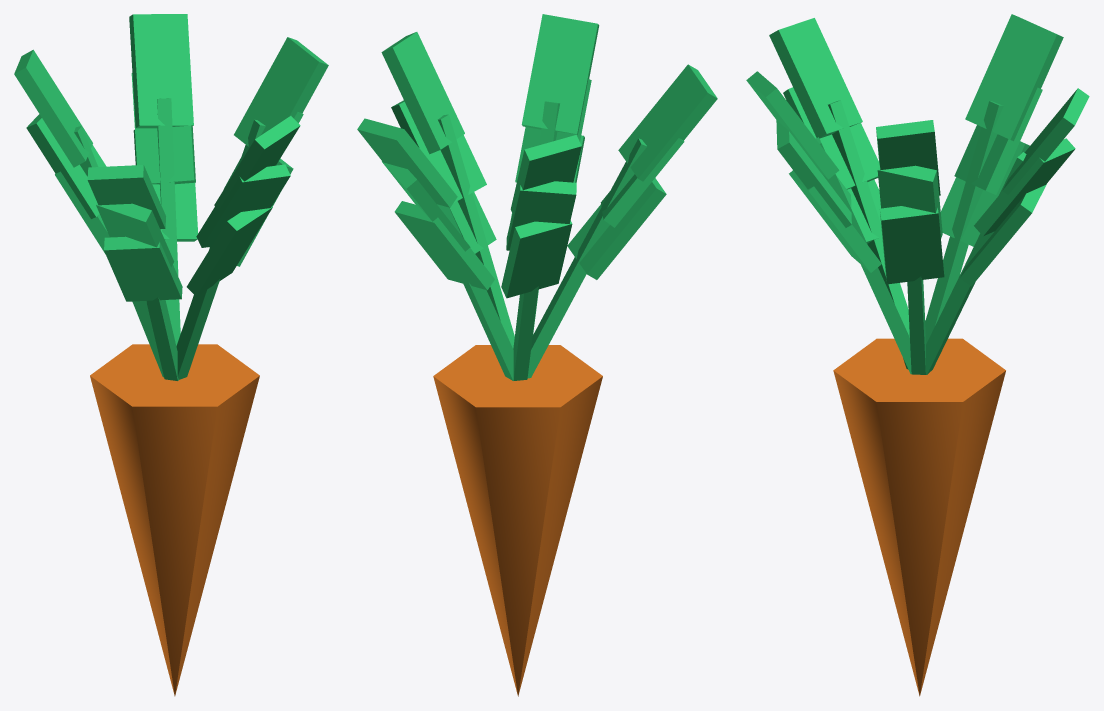
Rendered from crop_carrot.glb.
The picture shows the model from 3 angles, left to right: view 1: azimuth 30°, elevation 25°; view 2: azimuth 150°, elevation 25°; view 3: azimuth 270°, elevation 25°; orthographic projection.
Parts seen in each view (by area): view 1: scale_group; view 2: scale_group; view 3: scale_group.
Boxes of the visible parts, box(x1,y1,x2,y2) form: scale_group: box(14, 14, 328, 696); scale_group: box(357, 14, 717, 696); scale_group: box(746, 14, 1089, 696).
Bounding box in the file's own units: 0.2254 × 0.4871 × 0.2383.
